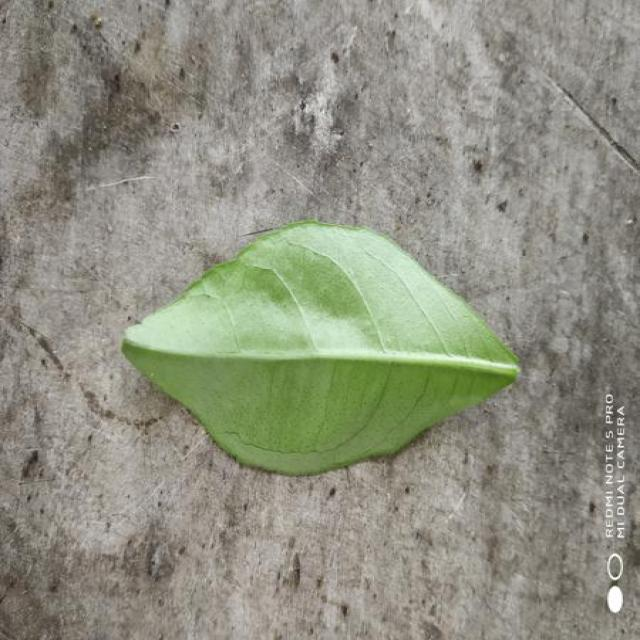citron lime: (122, 221, 518, 474)
